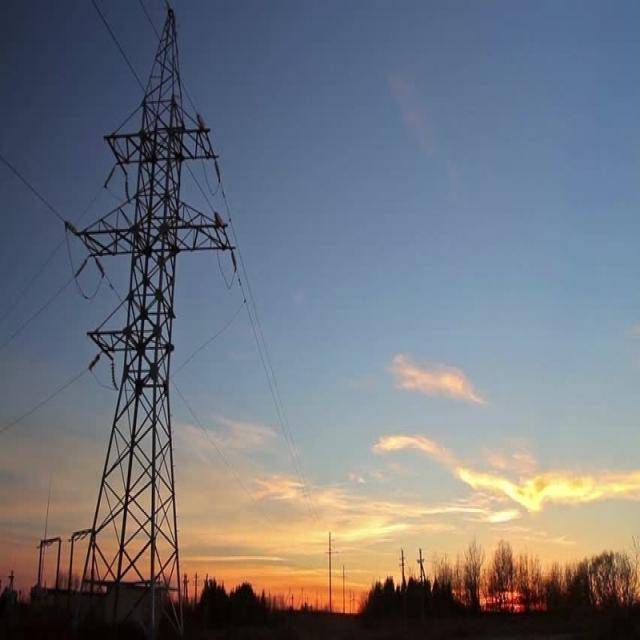non-critical vegetation: (88, 17, 218, 590)
